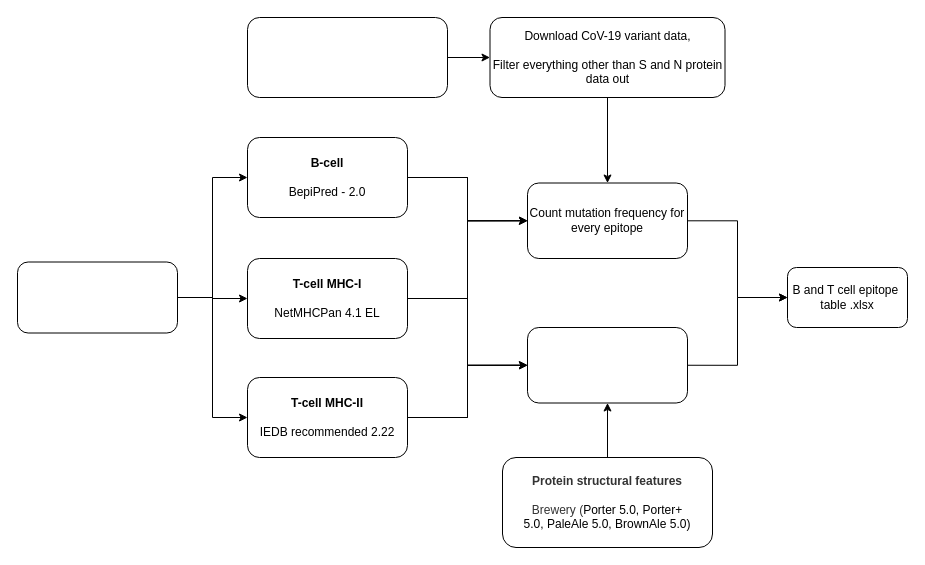
Image size: 925x565. Some labels were removed from this diagram. Here are the shapes that lost their labels. From the top down, the centre of each, then its label:
At (x=347, y=57): "Mutation data Nextstrain/lapis.cov-spectrum.org API ( NCBI GenBank open data)".
At (x=97, y=297): "Whuan ( WIV04 ) reference sequence S and N prot.".
At (x=607, y=364): "Calculate average Solvent accessibility score for every epitope".
